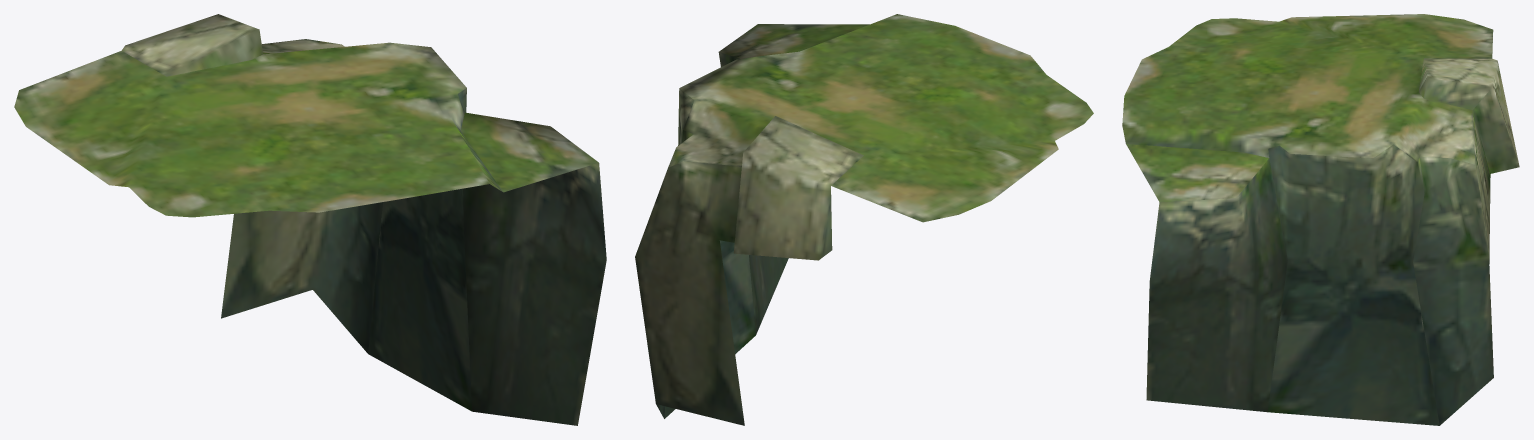
The model's file is S_Rock_Green054_1060_16.fbx.
3 views of the same model, side by side, from view 1: azimuth 30°, elevation 25°; view 2: azimuth 150°, elevation 25°; view 3: azimuth 270°, elevation 25° (orthographic). The views are drawn at different scales.
Visible parts, largest first — view 1: S_Rock_Green054_1060_16; view 2: S_Rock_Green054_1060_16; view 3: S_Rock_Green054_1060_16.
Boxes of the visible parts, x1,y1,x2,y2 form: S_Rock_Green054_1060_16: [14, 14, 606, 425]; S_Rock_Green054_1060_16: [635, 14, 1093, 425]; S_Rock_Green054_1060_16: [1122, 14, 1519, 425].
Size of the model in its own units: 1587 by 1301 by 1561.
1 material, 1 textured.
